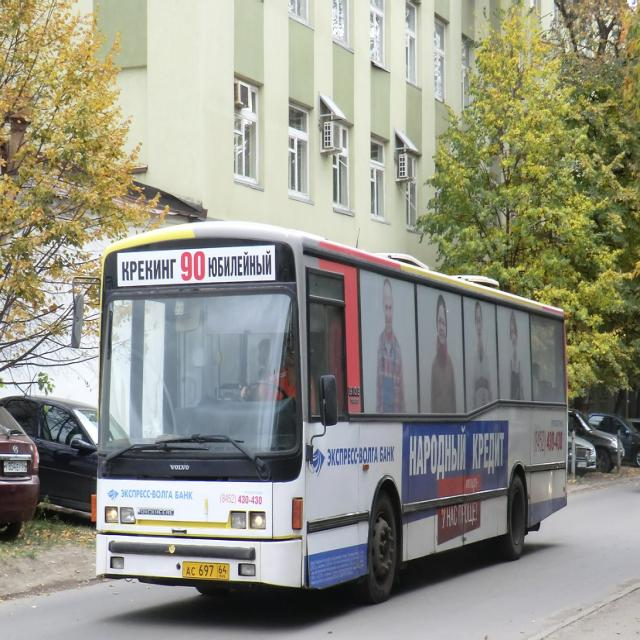number-of-bus: (178, 249, 208, 285)
